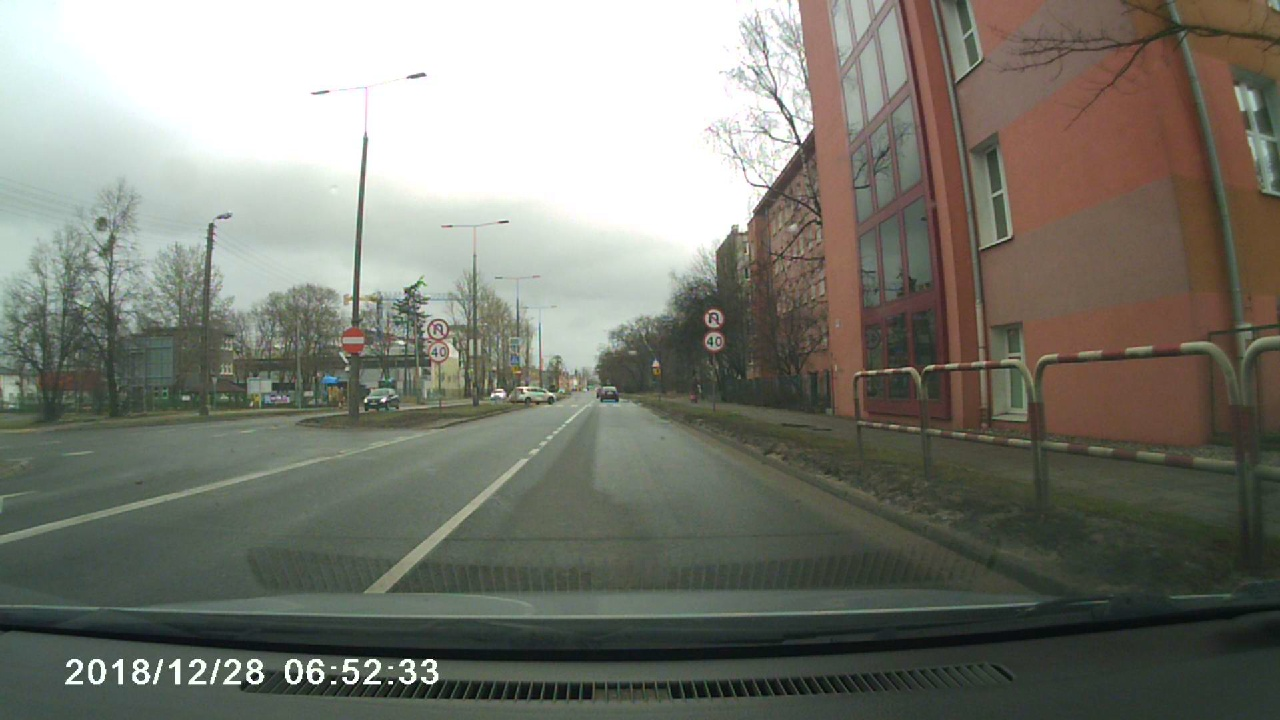B2: (337, 324, 371, 357)
B23: (426, 319, 450, 341), (703, 309, 727, 327)
B33_40: (701, 331, 732, 355), (424, 344, 450, 363)
